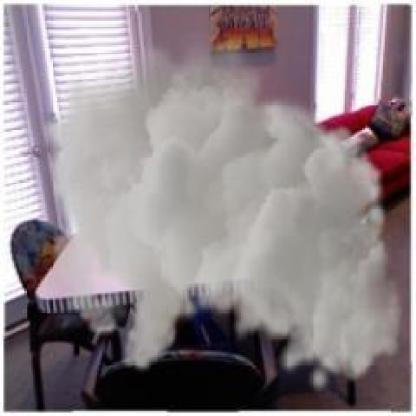Smoke: (41, 30, 404, 395)
